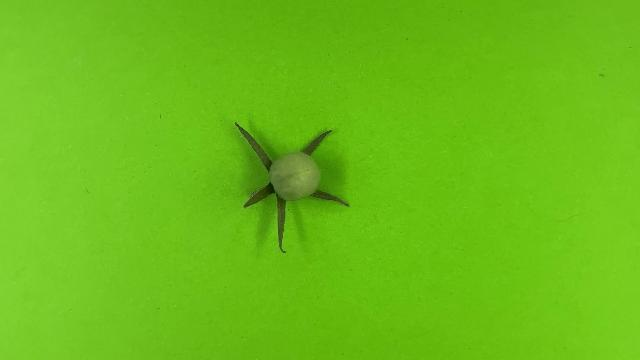Fruit Maturation: (268, 151, 322, 201)
